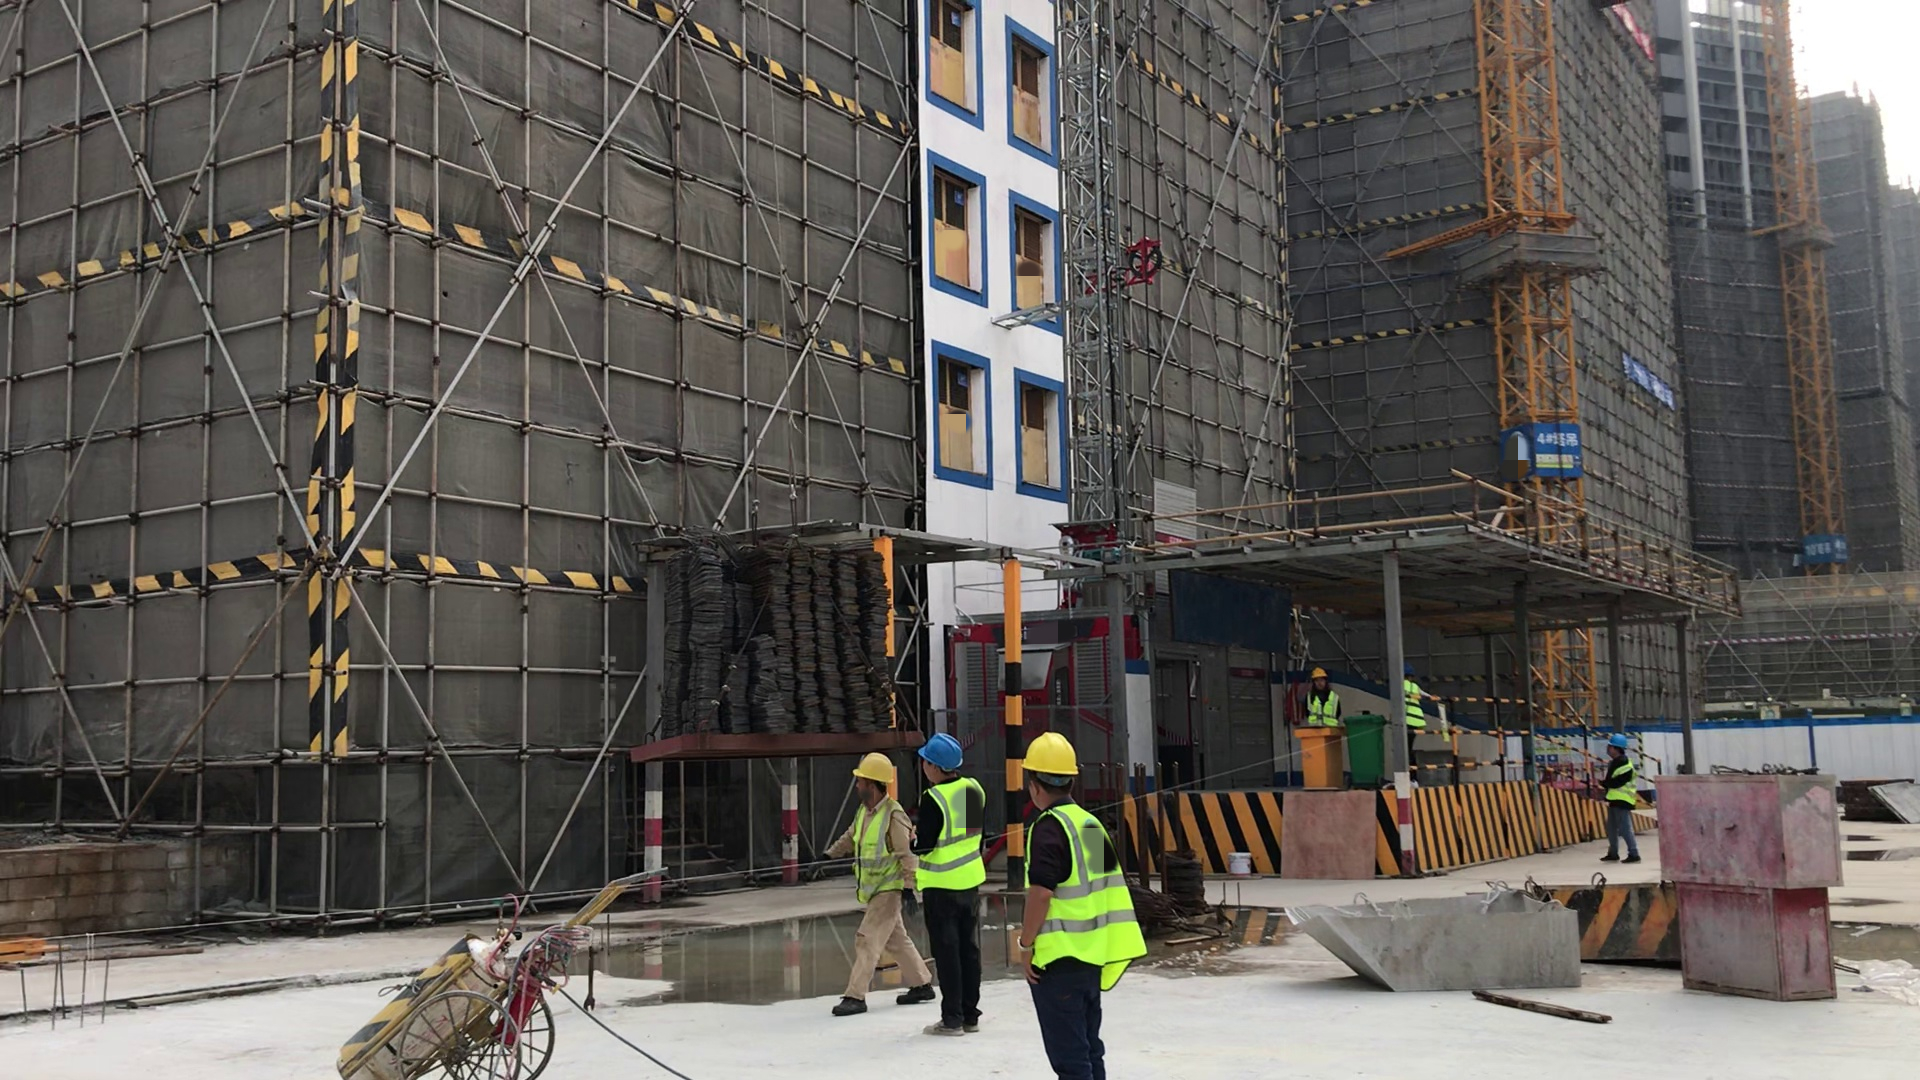fence: (1403, 678, 1676, 816)
handcart: (317, 859, 686, 1080)
helmet: (1018, 725, 1087, 784), (913, 730, 964, 775), (848, 747, 896, 790), (1602, 731, 1636, 757), (1307, 657, 1331, 688)
hopper: (1250, 874, 1621, 1005)
person: (997, 720, 1169, 1080), (896, 708, 1004, 1041), (827, 733, 936, 1016), (1586, 722, 1655, 872), (1390, 658, 1446, 768), (1296, 649, 1342, 731)
slogan: (1502, 420, 1590, 482), (1610, 347, 1683, 411), (1792, 520, 1864, 564), (1530, 734, 1574, 770)
vest: (1021, 799, 1155, 996), (918, 774, 995, 909), (845, 800, 924, 899), (1394, 669, 1437, 749), (1598, 750, 1644, 818), (1302, 677, 1345, 732)
